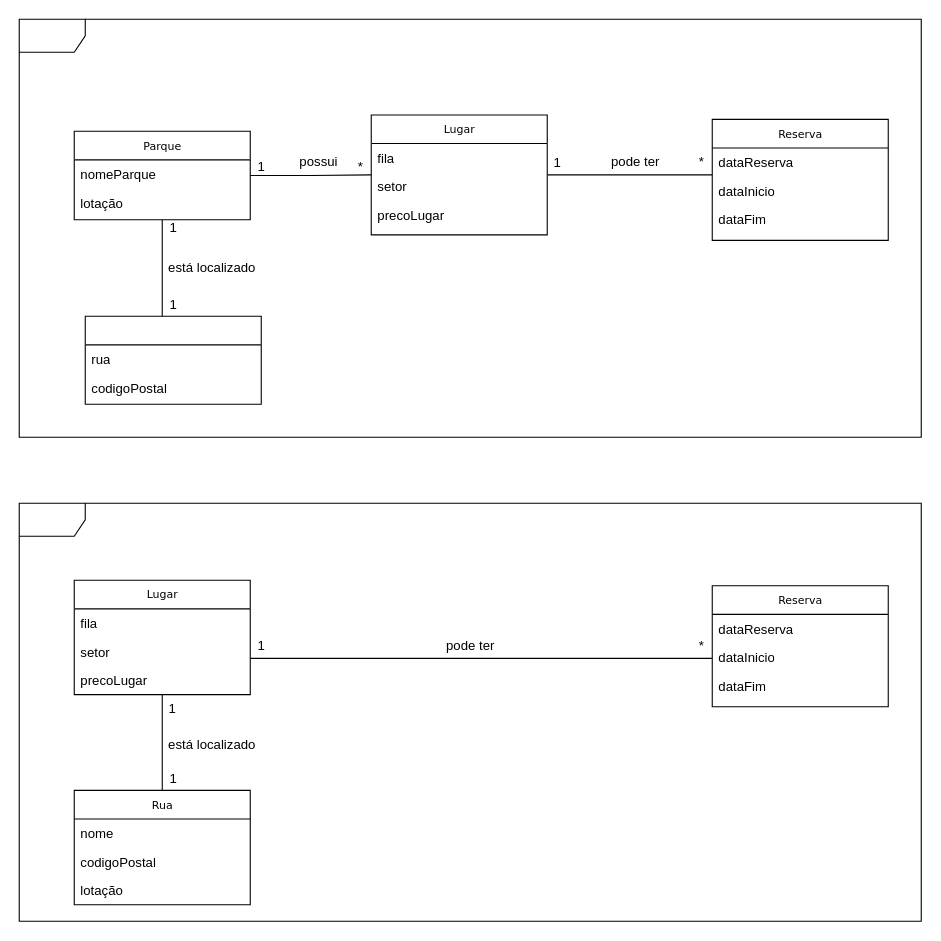
Image size: 941x941. Some labels were removed from this diagram. Here are the shapes that lost their labels. From the top down, the box of each, then its label:
(18, 18, 921, 437): Privado
(84, 315, 261, 404): Morada
(18, 502, 921, 921): Publico
